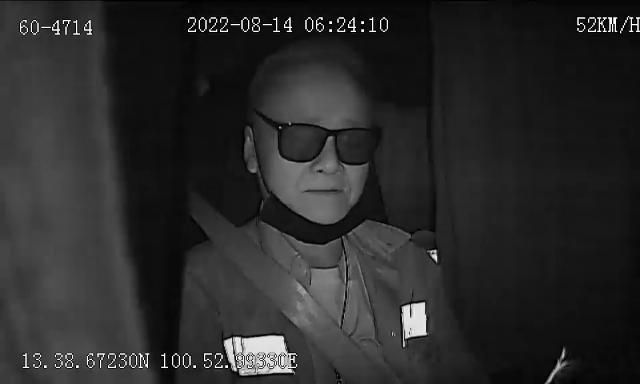Seatbelt: (187, 190, 393, 384)
